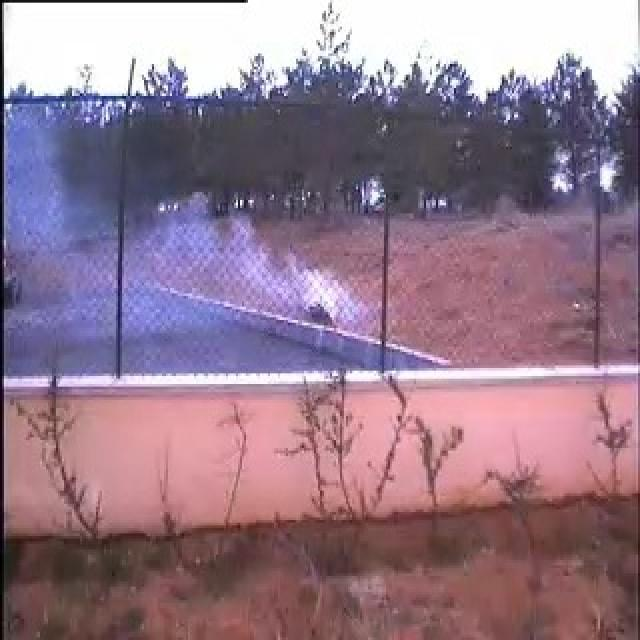smoke: (136, 192, 356, 367)
